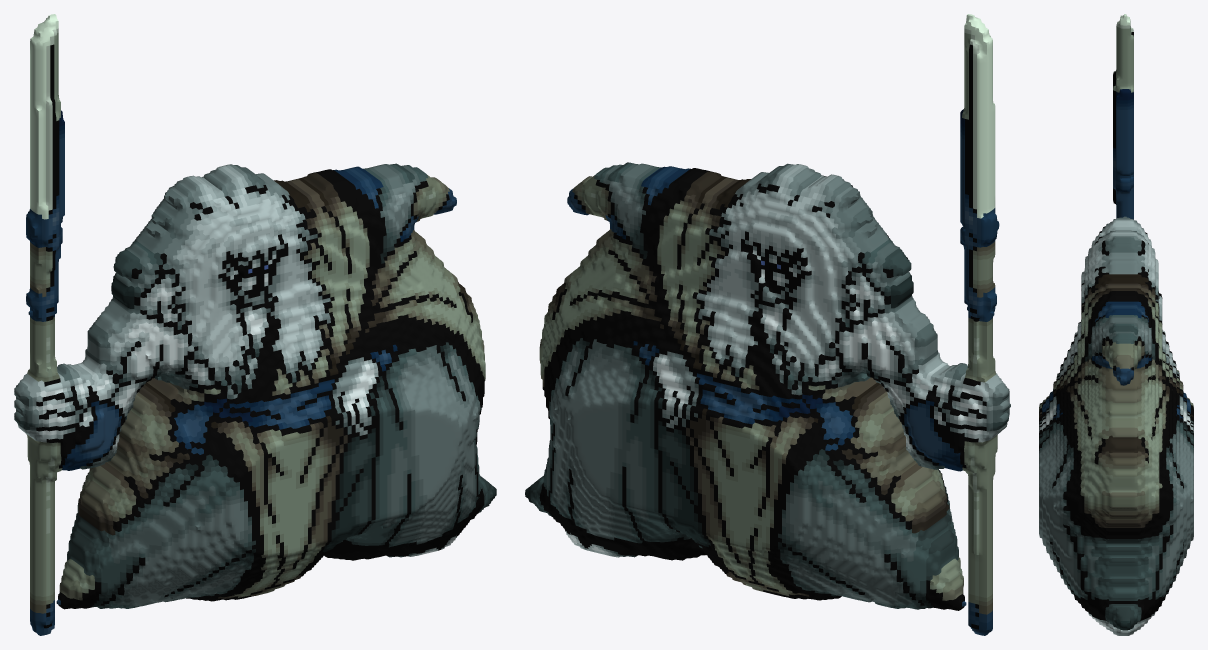
The model's file is Fight_755_3_07.obj.
3 renders of one model, left to right at view 1: azimuth 30°, elevation 25°; view 2: azimuth 150°, elevation 25°; view 3: azimuth 270°, elevation 25°, orthographic. The views are drawn at different scales.
Size of the model in its own units: 12 by 14.88 by 4.4.
Materials: 1 (1 with a texture image).
